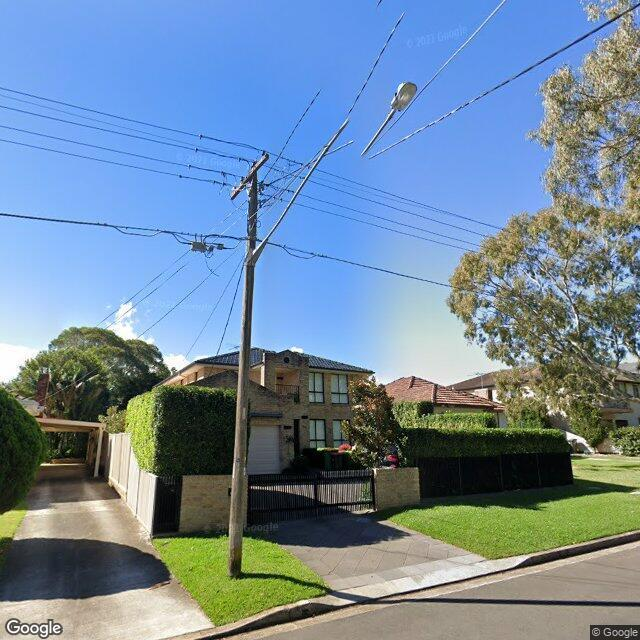crossarm: (229, 153, 270, 200)
streetlight: (249, 79, 418, 265)
timber-pole: (227, 161, 257, 578)
